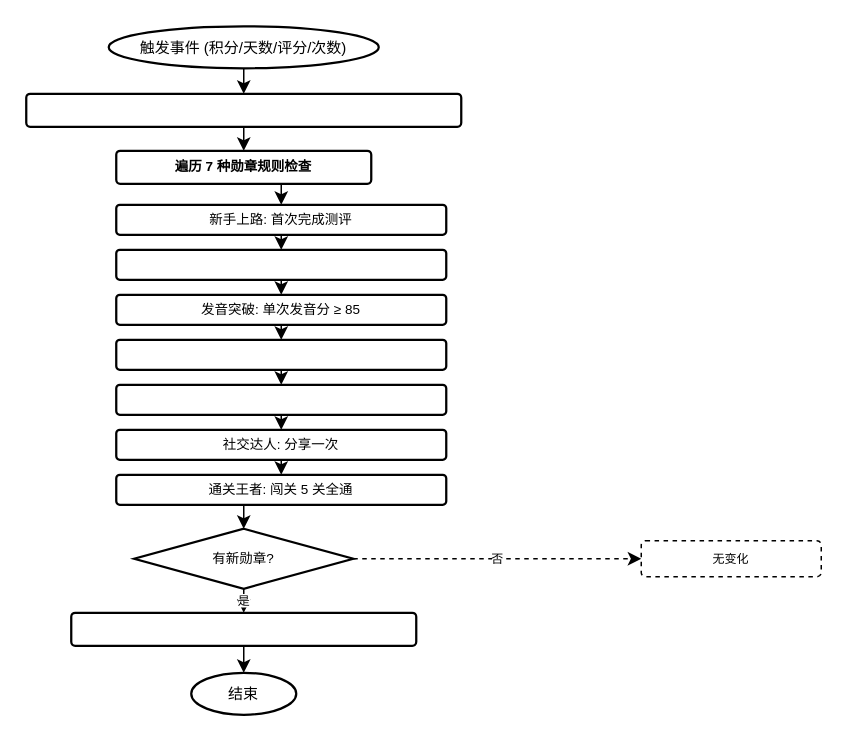
This 849x743 diagram has some shape labels left out. Here are the shapes that lost their labels. From the top down, the centre of each, then its label:
At point 243,109: "获取用户当前积分 + 已获勋章 + 学习统计".
At point 280,264: "坚持之星: 连续 7 天打卡".
At point 280,354: "进步达人: 月综合分提升 ≥ 10".
At point 280,399: "配音达人: 配音评分 ≥ 80".
At point 243,628: "弹窗展示勋章 + 写入 user_badges".
